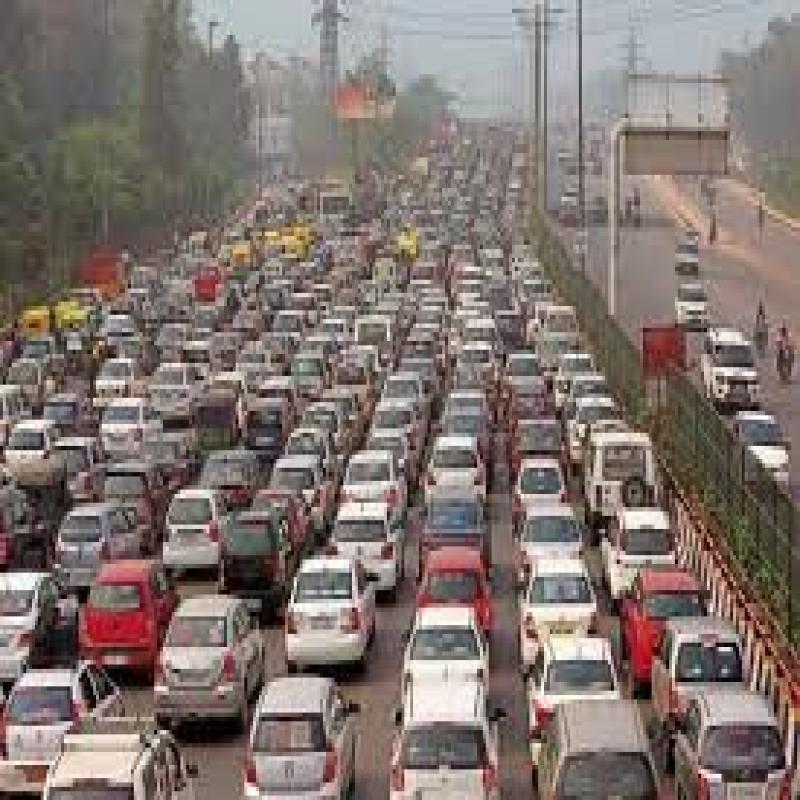car: (52, 693, 192, 800), (157, 581, 251, 732), (530, 691, 656, 800), (241, 679, 342, 800), (648, 612, 754, 727), (672, 700, 789, 800), (275, 553, 360, 689), (395, 597, 489, 716), (516, 503, 613, 606), (530, 625, 614, 739), (61, 490, 157, 588), (578, 428, 652, 534), (205, 506, 280, 610), (603, 509, 687, 587), (87, 397, 160, 483), (419, 422, 487, 512), (39, 420, 108, 508), (160, 481, 221, 572), (272, 453, 338, 534), (523, 560, 585, 640), (509, 455, 563, 524), (90, 352, 143, 416), (366, 427, 406, 507), (199, 387, 239, 448)
